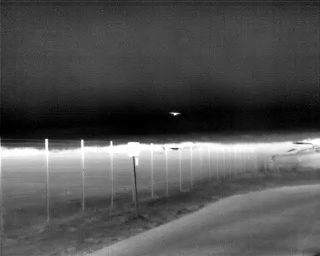AIRPLANE: (169, 109, 182, 118)
